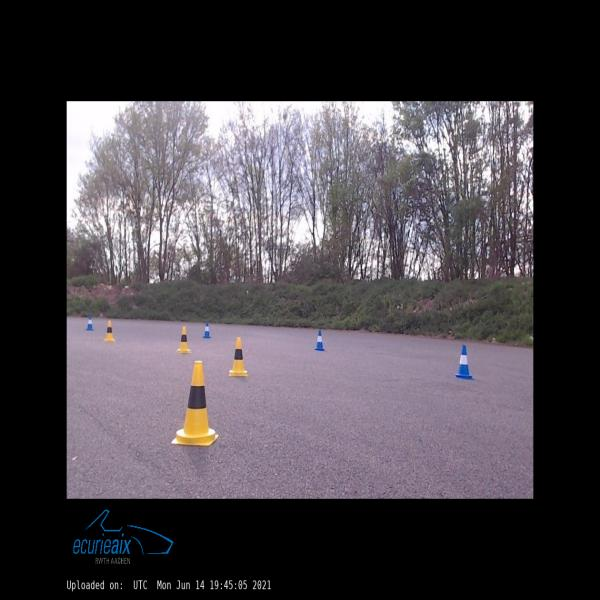blue_cone: (454, 345, 474, 379), (315, 330, 324, 350), (203, 322, 211, 338), (86, 316, 94, 330)
yellow_cone: (172, 362, 218, 445), (229, 337, 248, 376), (178, 327, 191, 353), (104, 320, 115, 341)
